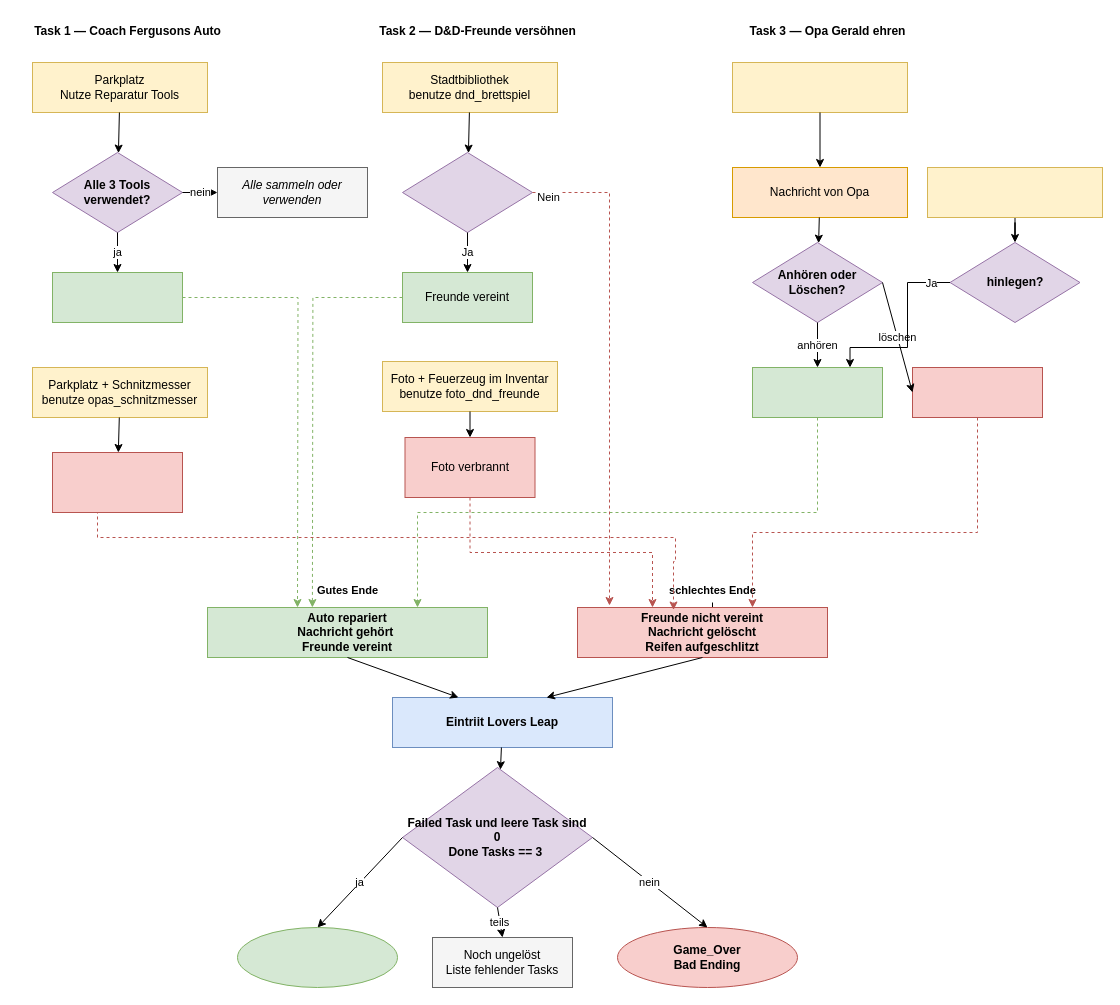
Image size: 1120x1005. Some labels were removed from this diagram. Each missing label, with the centre of its shape:
"Auto repariert" belongs at [117,297].
"Foto noch vorhanden" belongs at [467,192].
"Friedhof benutze jacobs_altes_handy" belongs at [820,87].
"Game_Over Good Ending" belongs at [317,957].
"Opa nicht vergeben" belongs at [977,392].
"Opa vergeben und geehrt" belongs at [817,392].
"Opas_altes_Schnitzmesser im Inventar" belongs at [1014,192].
"Reifen aufschlitzen" belongs at [117,482].
